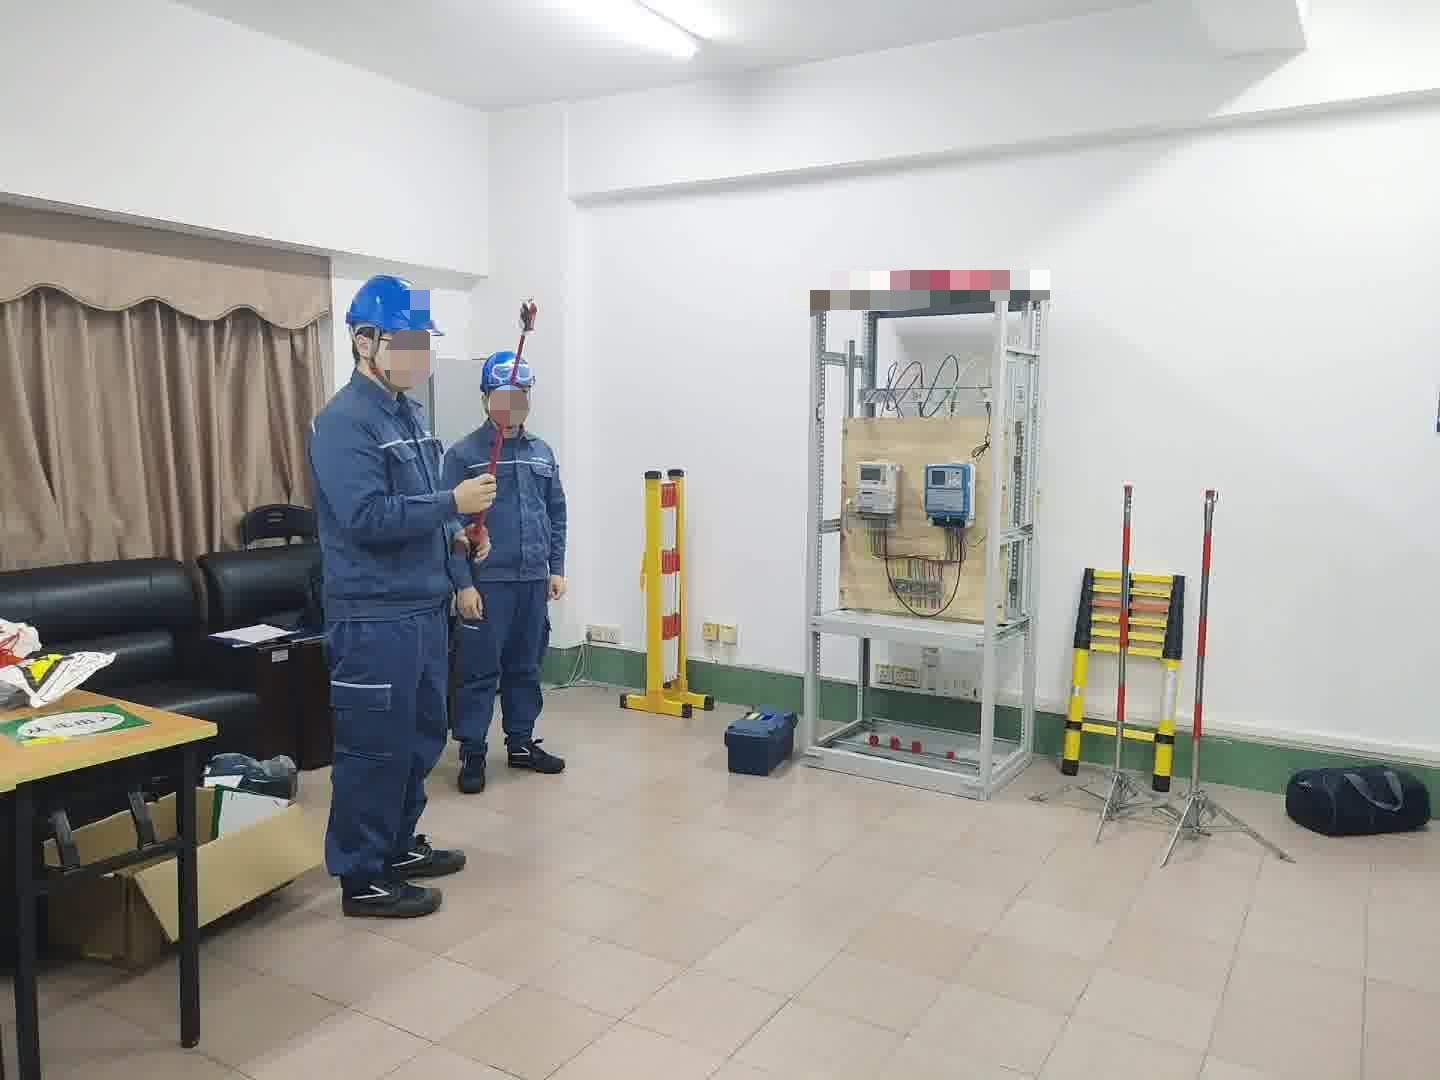halt: (344, 277, 443, 391), (478, 353, 542, 430)
inear: (348, 327, 389, 376)
